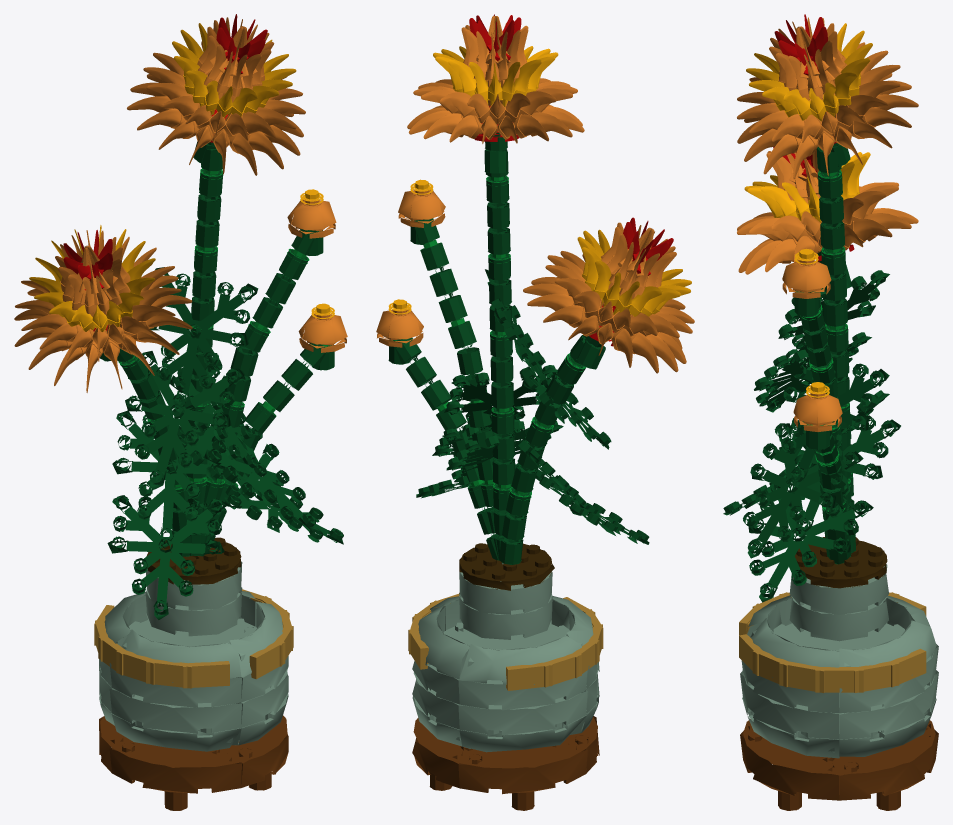
The model's file is chrysanthemum-lite.glb.
3 renders of one model, left to right at view 1: azimuth 30°, elevation 25°; view 2: azimuth 150°, elevation 25°; view 3: azimuth 270°, elevation 25°, orthographic. The views are drawn at different scales.
Parts seen in each view (by area): view 1: p278, p1, p276, p275, p277, p18, p274, p14, p37, p0, p34, p11 (+24 smaller); view 2: p2, p19, p39, p15, p35, p38, p37, p273, p3, p36, p12, p276 (+28 smaller); view 3: p274, p280, p3, p0, p273, p39, p17, p20, p37, p38, p279, p276 (+62 smaller).
Boxes of the visible parts, x1,y1,x2,y2 form: p278: (107, 495, 225, 619); p1: (109, 742, 241, 793); p276: (125, 351, 245, 489); p275: (150, 267, 258, 412); p277: (112, 410, 226, 547); p18: (109, 689, 241, 733); p274: (204, 413, 315, 531); p14: (109, 642, 241, 707); p37: (145, 587, 242, 636); p0: (223, 715, 288, 787); p34: (121, 629, 241, 678); p11: (111, 713, 241, 751); p2: (458, 743, 587, 794); p19: (458, 691, 587, 735); p39: (459, 543, 554, 590); p15: (458, 645, 587, 710); p35: (459, 635, 581, 684); p38: (459, 563, 552, 614); p37: (459, 593, 552, 639); p273: (444, 365, 557, 432); p3: (412, 718, 477, 788); p36: (418, 603, 469, 679); p12: (459, 715, 586, 752); p276: (516, 339, 611, 449); p274: (743, 423, 863, 558); p280: (748, 483, 873, 602); p3: (839, 732, 937, 800); p0: (740, 731, 839, 800); p273: (782, 350, 889, 486); p39: (795, 537, 887, 588); p17: (740, 673, 839, 739); p20: (839, 673, 937, 739); p37: (789, 596, 888, 641); p38: (789, 564, 888, 614); p279: (779, 415, 900, 537); p276: (754, 332, 871, 412).
Bounding box in the file's own units: 15.4 × 35.62 × 8.96.
